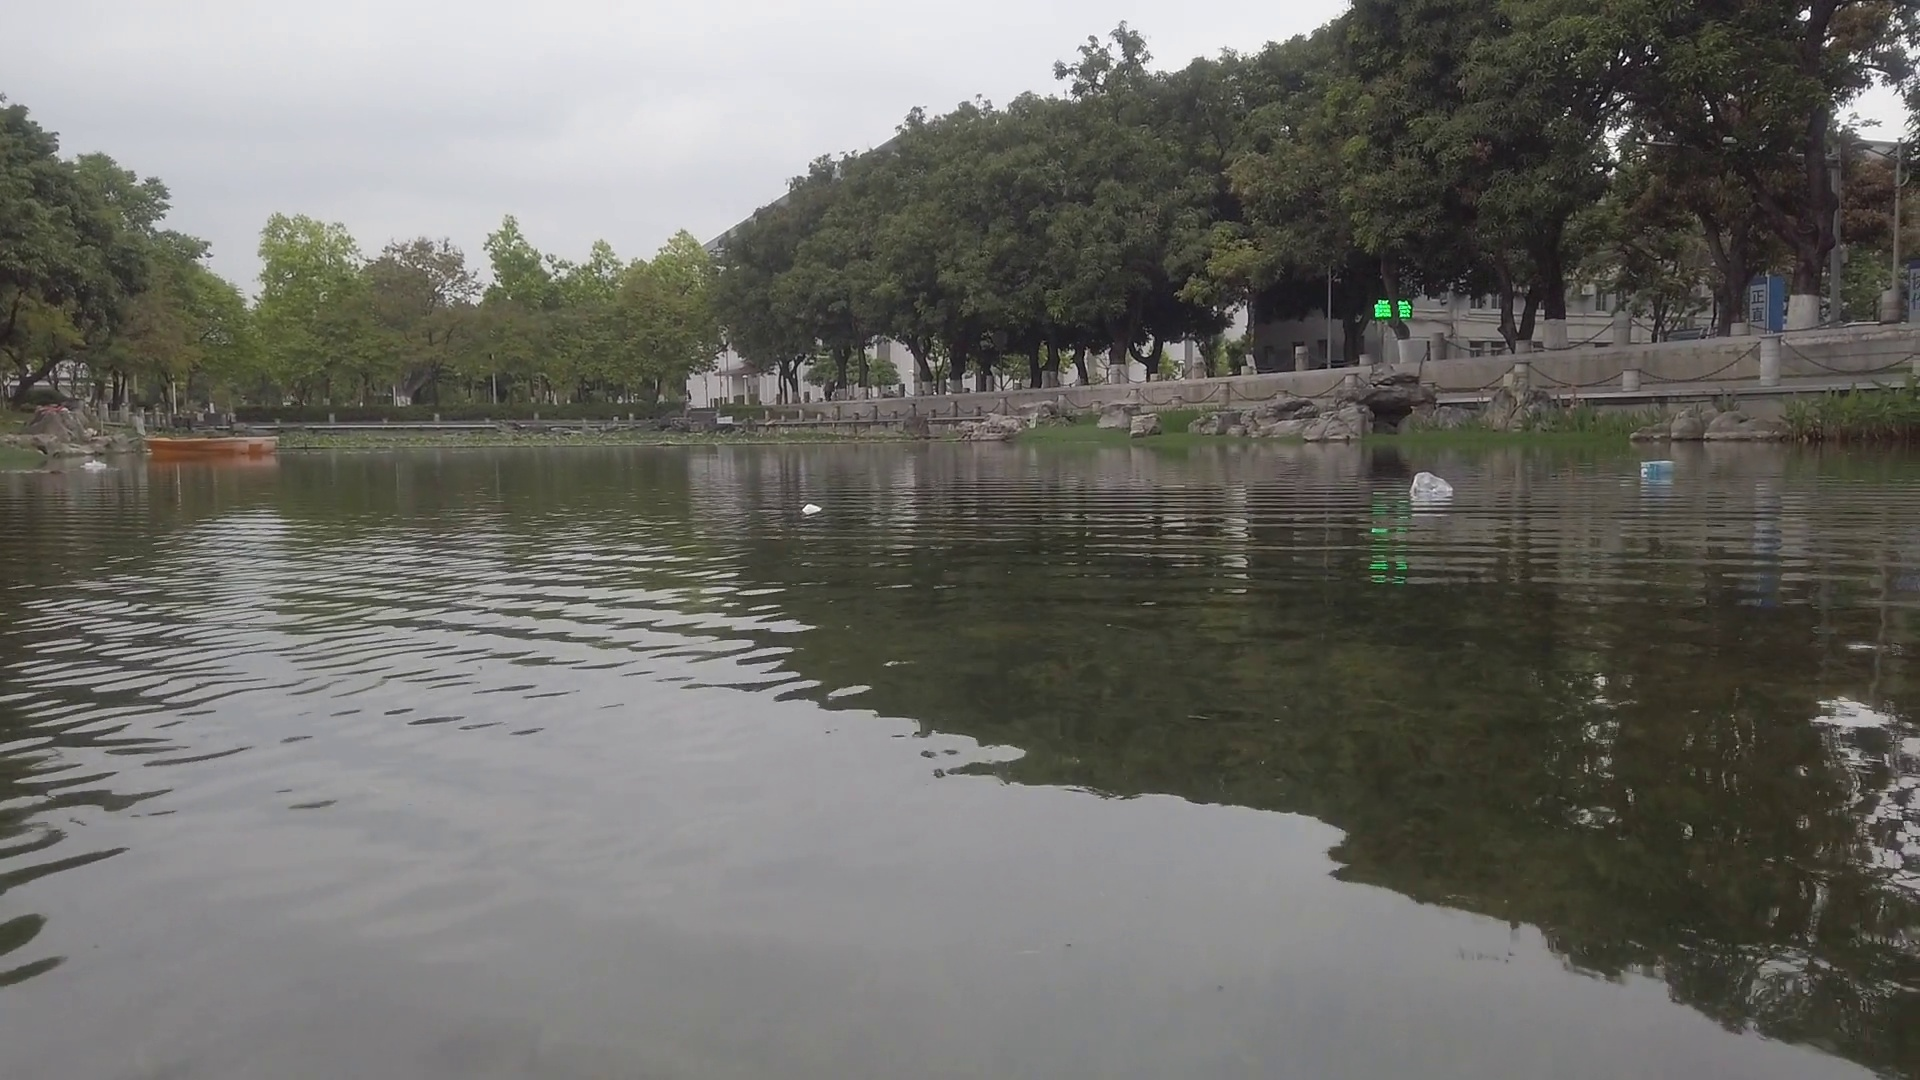carton: (1640, 462, 1680, 475)
paper: (800, 500, 820, 513)
plastic: (1407, 471, 1453, 498), (79, 460, 109, 473)
